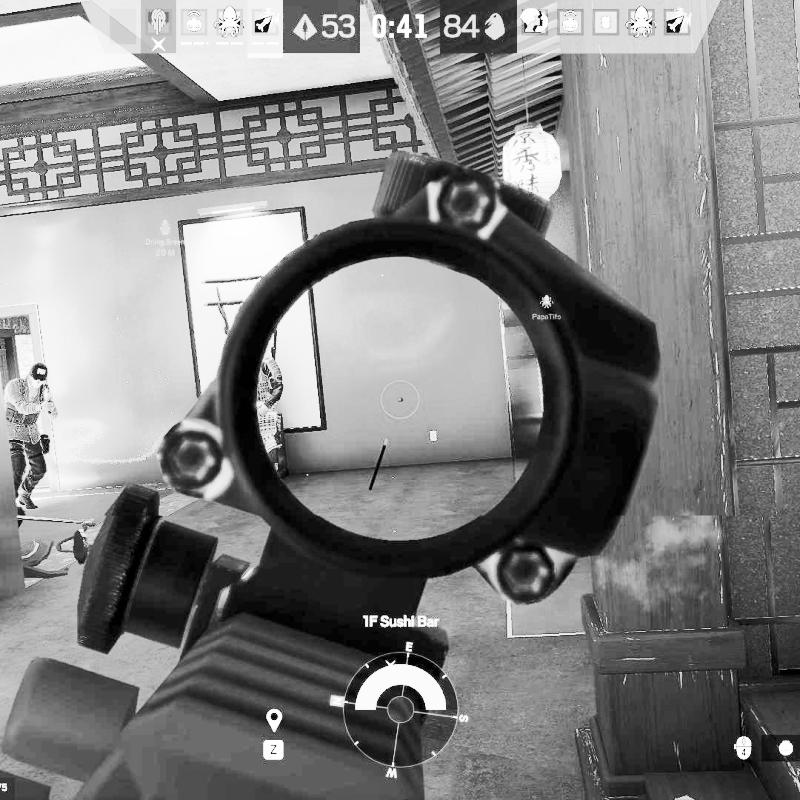Character: (2, 360, 62, 512)
Friend_label: (528, 293, 564, 321)
Head: (28, 363, 51, 390)
